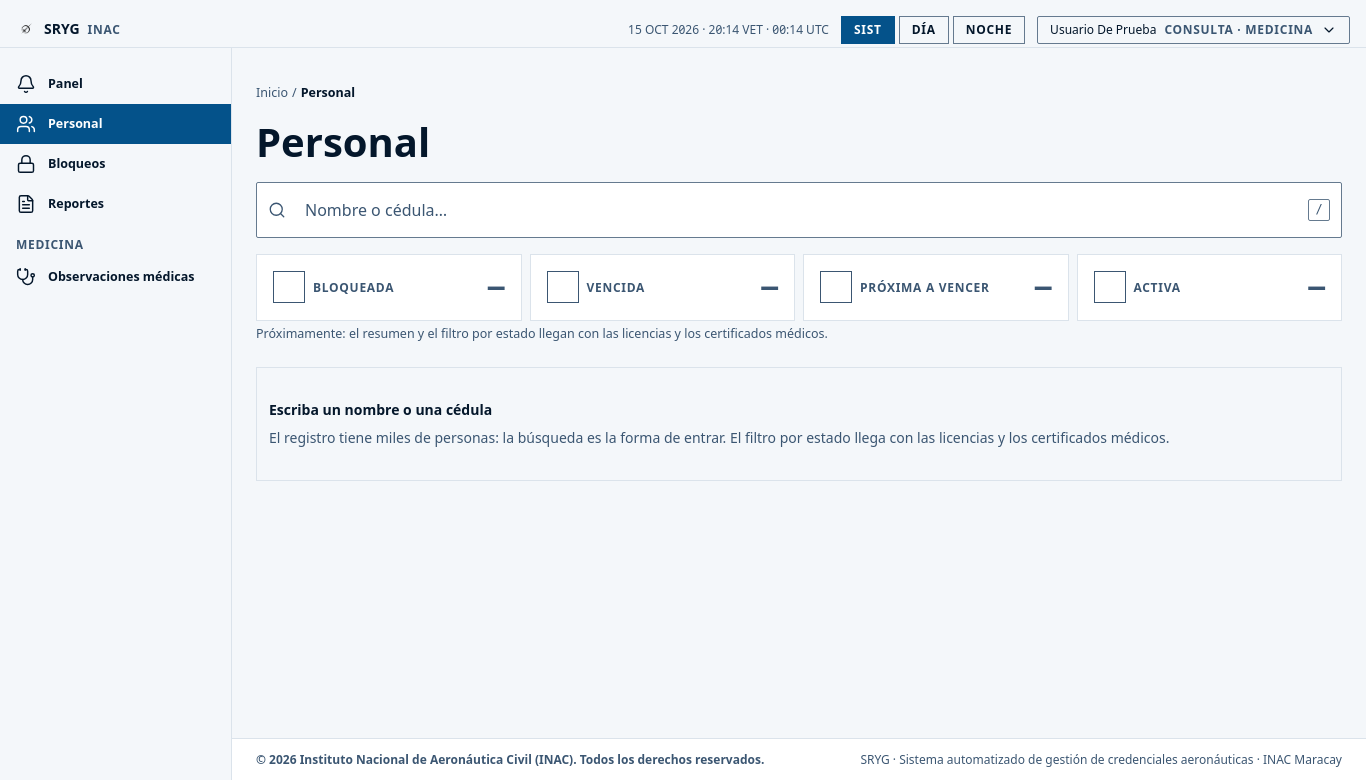
Listado de personal on the API › says when a search matches nobody
The image size is (1366, 780).
In the search field named "Buscar por nombre o cédula": (799, 210) [256,182,1342,238], type "nadie"
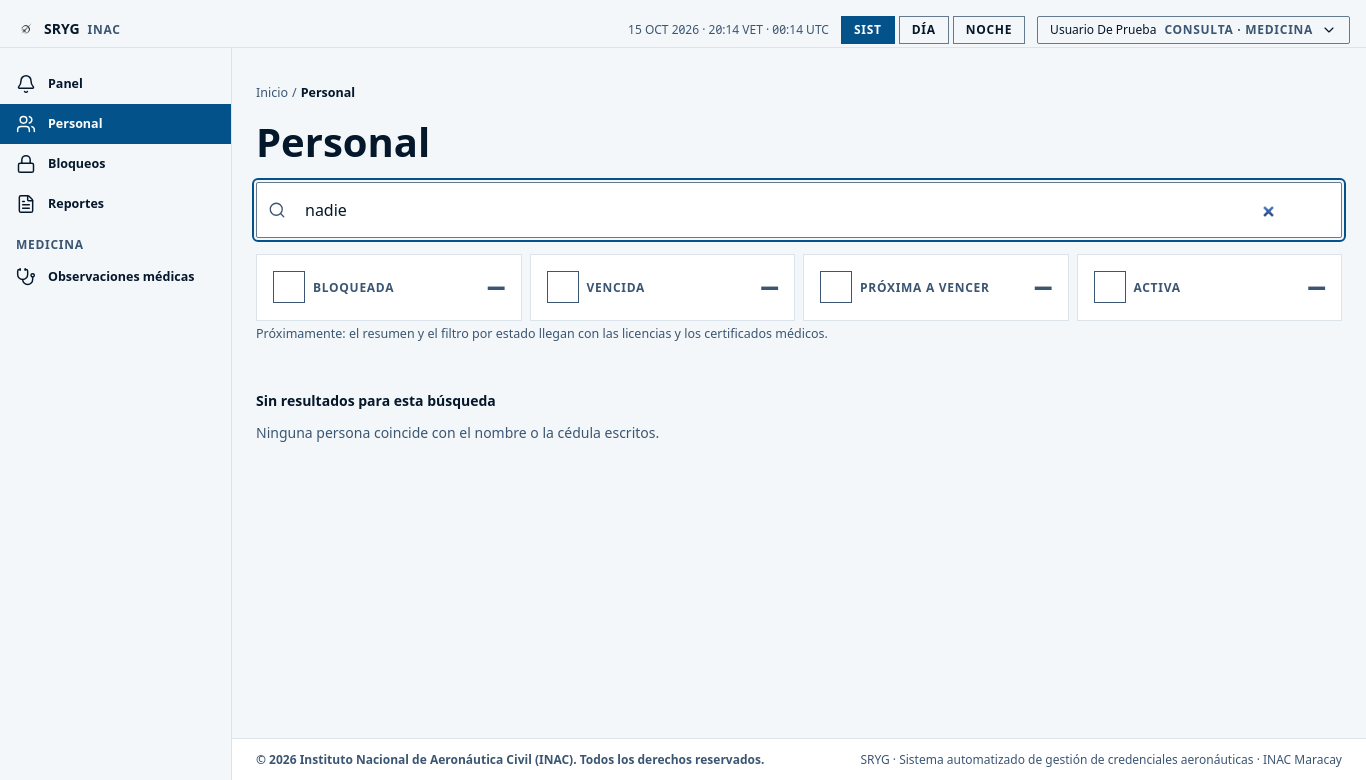
Result: the text "Sin resultados para esta búsqueda" is shown at [256,391,496,411]
